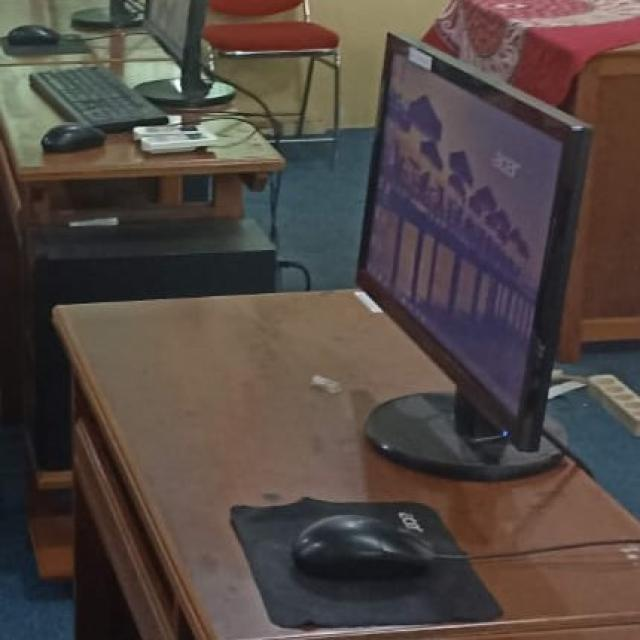onscreen: (361, 35, 584, 449)
